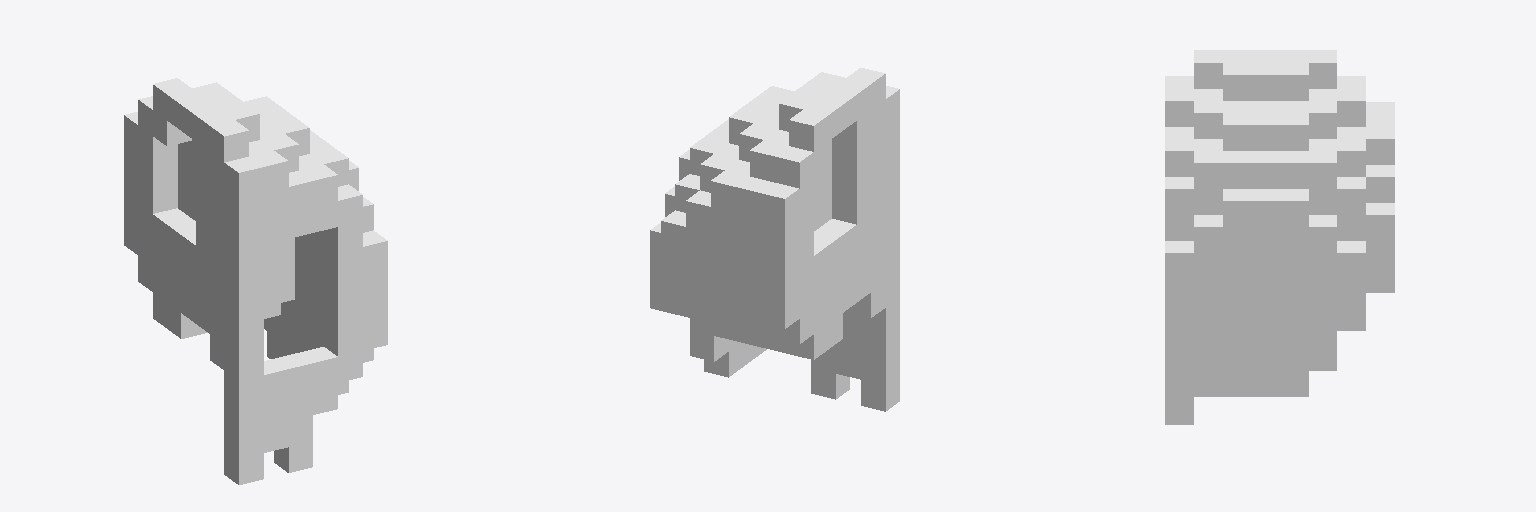
File: Skelton_Head_Explodes_Right.obj
3 renders of one model, left to right at view 1: azimuth 30°, elevation 25°; view 2: azimuth 150°, elevation 25°; view 3: azimuth 270°, elevation 25°, orthographic.
Bounding box in the file's own units: 6 × 13 × 8.